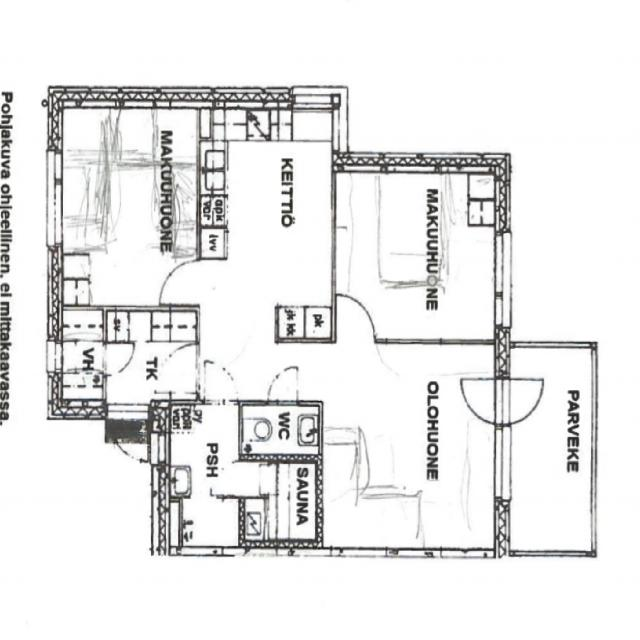door: (108, 400, 148, 465), (494, 377, 549, 424), (455, 377, 510, 424), (155, 344, 200, 392), (338, 291, 375, 343), (160, 261, 200, 303), (204, 359, 238, 406), (267, 362, 298, 406), (210, 464, 247, 500), (102, 342, 134, 374)
